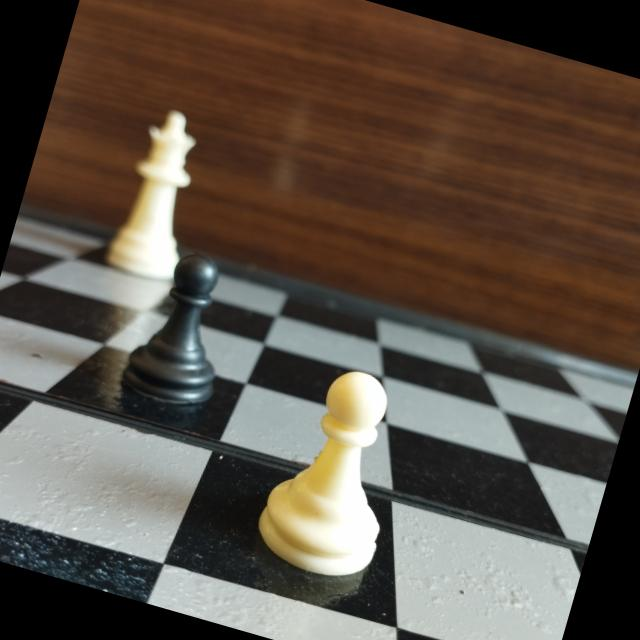Black Pawn: (114, 238, 255, 427)
White Pawn: (239, 352, 429, 594)
White Queen: (101, 98, 222, 288)
